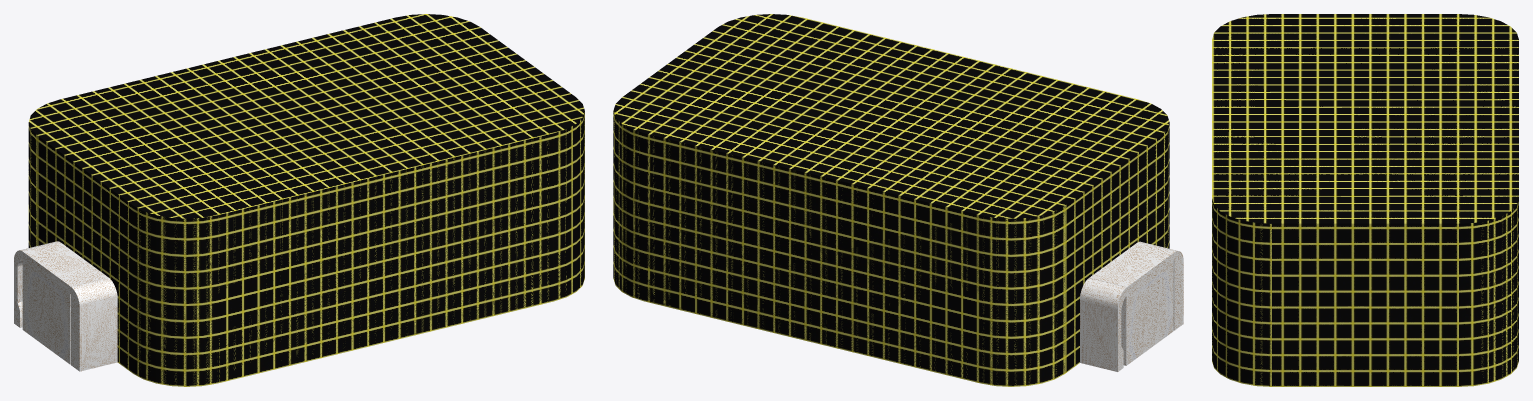
The model's file is deck.dae.
3 renders of one model, left to right at view 1: azimuth 30°, elevation 25°; view 2: azimuth 150°, elevation 25°; view 3: azimuth 270°, elevation 25°, orthographic. The views are drawn at different scales.
Parts seen in each view (by area): view 1: SketchUp (×3); view 2: SketchUp (×3); view 3: SketchUp.
Part boxes in pixels (bbox=[...]): SketchUp (×3): bbox=[14, 14, 584, 386]; SketchUp (×3): bbox=[613, 14, 1183, 386]; SketchUp: bbox=[1212, 14, 1518, 386].
Size of the model in its own units: 531 by 302 by 178.
11 materials, 3 textured.
